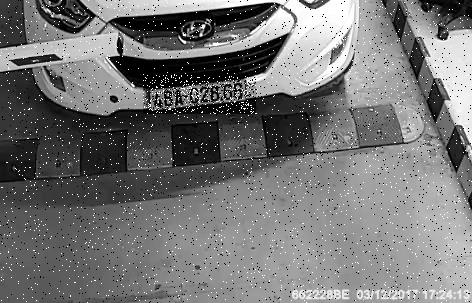License-plate: (145, 76, 259, 115)
